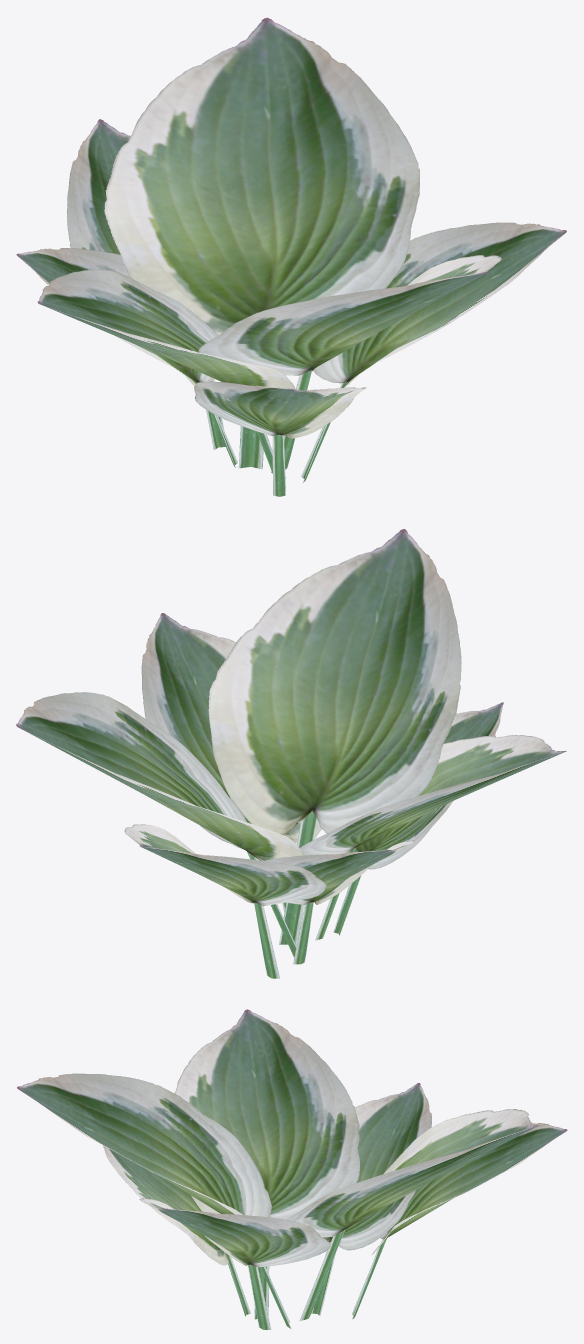
Rendered from plant_small_wg_04A.fbx.
3 views of the same model, one above another, from view 1: azimuth 30°, elevation 25°; view 2: azimuth 150°, elevation 25°; view 3: azimuth 270°, elevation 25° (orthographic). The views are drawn at different scales.
Parts seen in each view (by area): view 1: plant_small_wg_04A; view 2: plant_small_wg_04A; view 3: plant_small_wg_04A.
Boxes of the visible parts, <box> form: plant_small_wg_04A: <box>16,17,566,496</box>; plant_small_wg_04A: <box>16,529,566,978</box>; plant_small_wg_04A: <box>17,1009,567,1329</box>.
Size of the model in its own units: 91.61 by 56.49 by 111.
